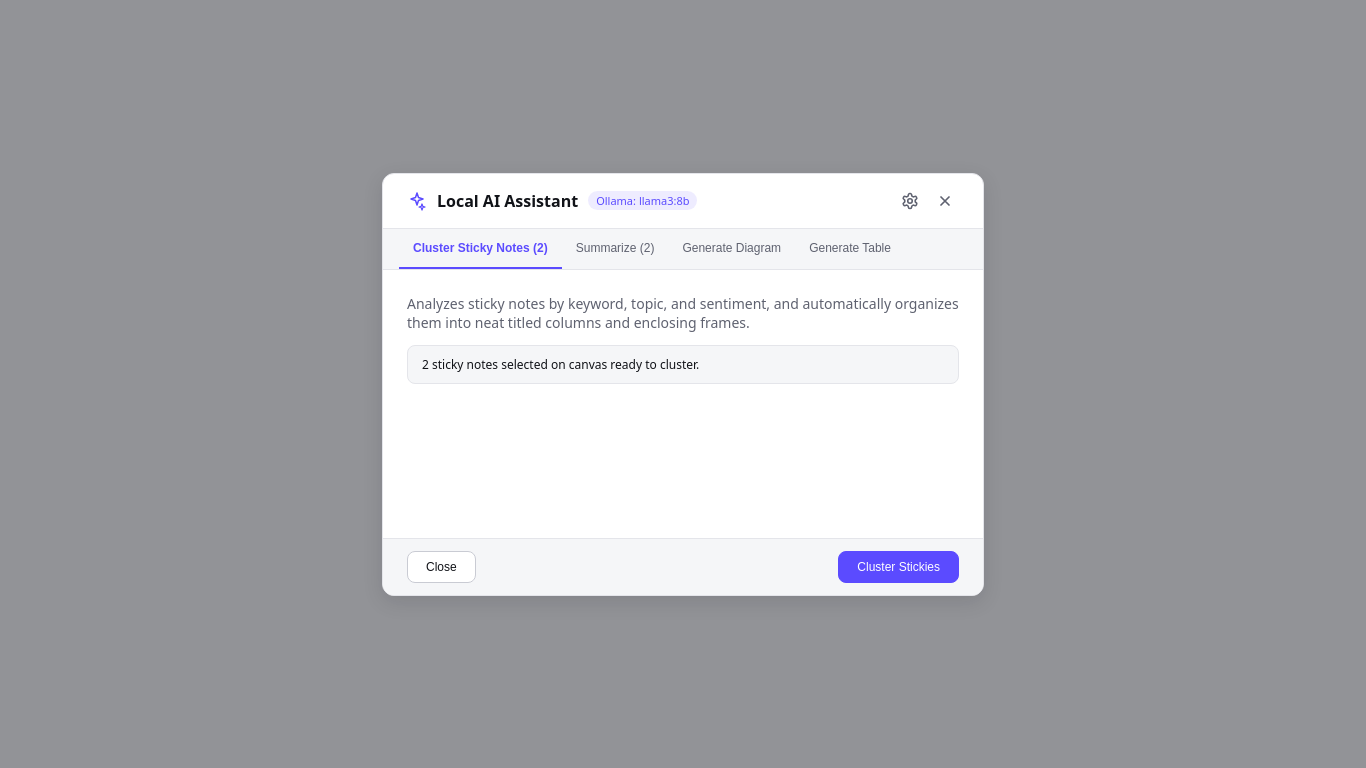
Test: AIAssistantModal UI Component (§10.1) › activates Cluster tab when sticky notes are selected and executes operation
This screenshot has width=1366, height=768.
expect the tab with test id "tab-cluster" is shown: met, box [399, 228, 562, 268]
expect the text "2 sticky notes selected on canvas ready to cluster." is shown: met, box [407, 345, 959, 384]
Click the button with test id "ai-execute-btn" at {"x": 899, "y": 566}, box [838, 550, 959, 582]
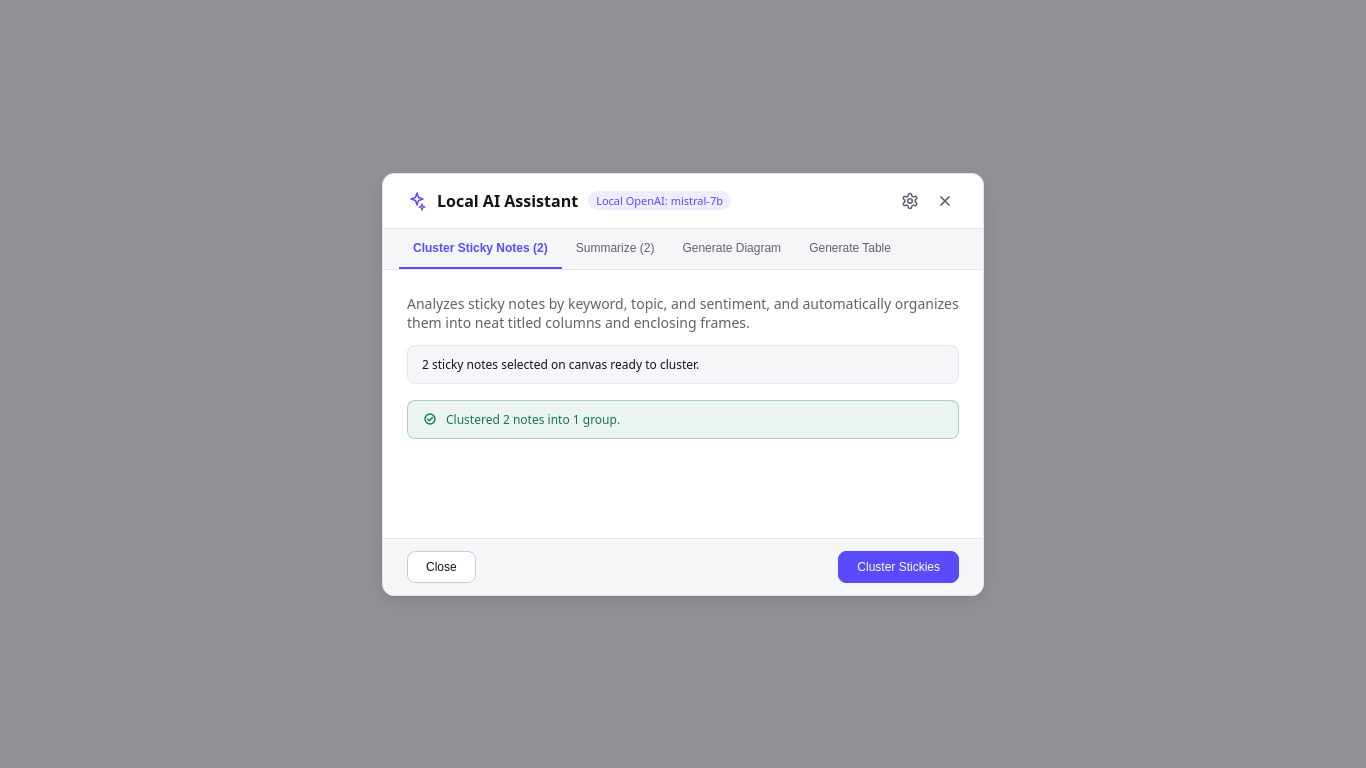
expect the element with test id "ai-success-notice" is shown: met, box [407, 400, 959, 439]
